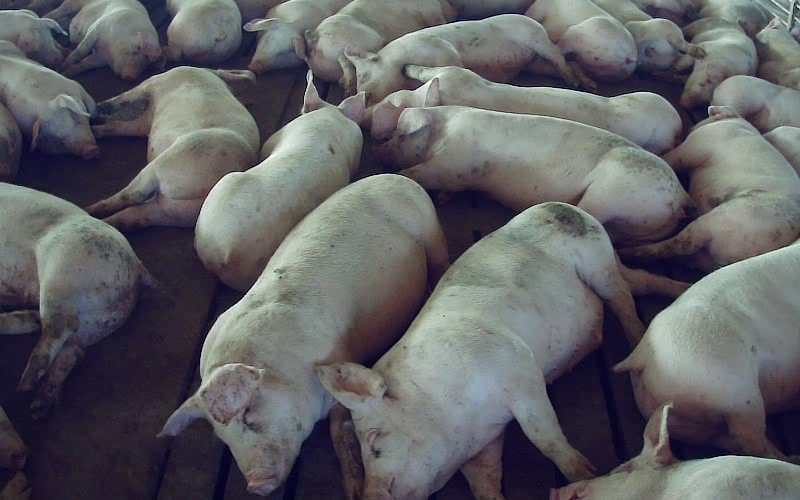pig: (318, 202, 683, 499), (160, 174, 446, 499), (375, 106, 689, 243), (614, 241, 799, 457), (195, 71, 364, 290), (620, 107, 799, 270), (365, 66, 681, 154), (88, 67, 259, 229), (550, 404, 799, 499), (349, 14, 594, 104), (46, 0, 160, 80), (526, 0, 637, 81), (593, 0, 698, 79), (680, 17, 757, 107), (167, 0, 241, 64)
